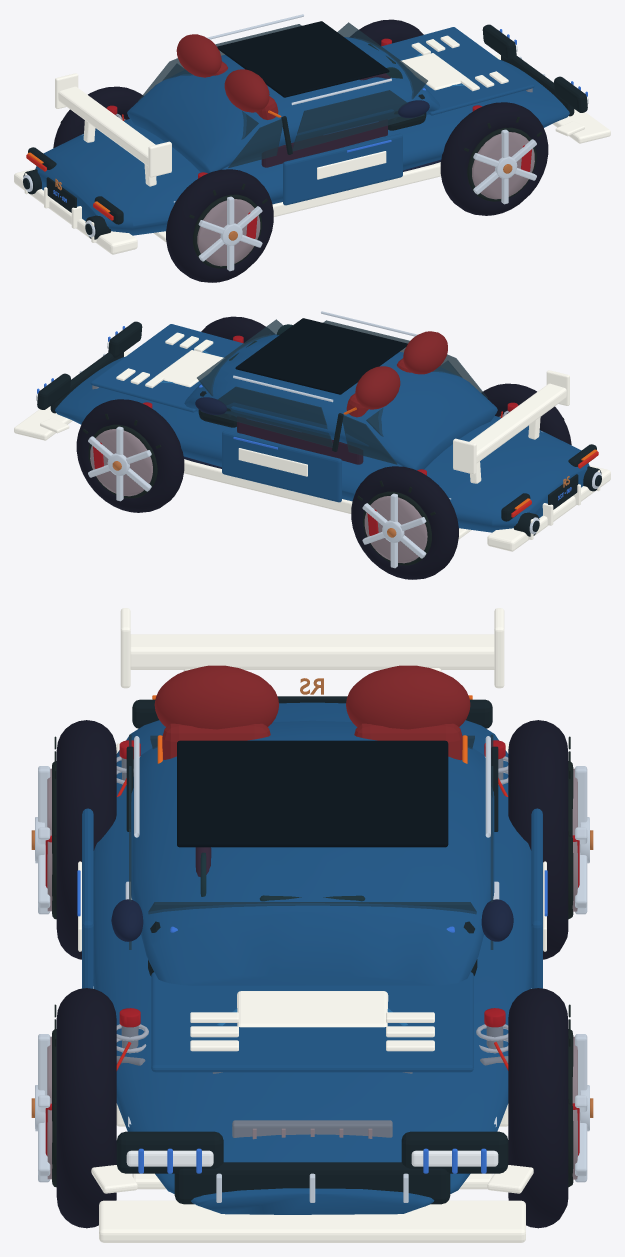
The model's file is Spectral.glb.
3 views of the same model, one above another, from view 1: azimuth 30°, elevation 25°; view 2: azimuth 150°, elevation 25°; view 3: azimuth 270°, elevation 25° (orthographic). The views are drawn at different scales.
Visible parts, largest first — view 1: CABIN_Roof_Shell, BODY_Shell_Hero, Panoramic_Roof_Glass, Front_Left_Tire, Rear_Left_Tire, Hood_Center_Panel, Door_Skin_L, L_Glass_Main, Active_Wing_Blade, Door_Panel_-0.72, Front_Left_Rim_Base, Rear_Left_Rim_Base (+23 smaller); view 2: CABIN_Roof_Shell, BODY_Shell_Hero, Panoramic_Roof_Glass, Front_Right_Tire, Rear_Right_Tire, Hood_Center_Panel, Door_Skin_R, R_Glass_Main, Active_Wing_Blade, Door_Panel_0.72, Front_Right_Rim_Base, Rear_Right_Rim_Base (+23 smaller); view 3: CABIN_Roof_Shell, BODY_Shell_Hero, Panoramic_Roof_Glass, Hood_Center_Panel, Front_Splitter, Front_Left_Tire, Front_Right_Tire, Active_Wing_Blade, Rear_Right_Tire, Rear_Left_Tire, Front_Grille_Deep, Driver_Headrest (+21 smaller).
Boxes of the visible parts, x1,y1,x2,y2 form: CABIN_Roof_Shell: [127, 37, 441, 173]; BODY_Shell_Hero: [35, 59, 569, 235]; Panoramic_Roof_Glass: [217, 21, 389, 97]; Front_Left_Tire: [440, 102, 548, 215]; Rear_Left_Tire: [166, 169, 273, 282]; Hood_Center_Panel: [381, 27, 534, 115]; Door_Skin_L: [283, 133, 402, 205]; L_Glass_Main: [292, 90, 424, 151]; Active_Wing_Blade: [58, 86, 155, 166]; Door_Panel_-0.72: [261, 120, 387, 167]; Front_Left_Rim_Base: [472, 132, 534, 199]; Rear_Left_Rim_Base: [197, 199, 260, 266]; CABIN_Roof_Shell: [183, 334, 497, 470]; BODY_Shell_Hero: [55, 356, 589, 532]; Panoramic_Roof_Glass: [235, 318, 407, 394]; Front_Right_Tire: [76, 399, 184, 512]; Rear_Right_Tire: [351, 466, 458, 579]; Hood_Center_Panel: [90, 324, 243, 412]; Door_Skin_R: [222, 430, 341, 502]; R_Glass_Main: [201, 386, 332, 447]; Active_Wing_Blade: [469, 383, 566, 463]; Door_Panel_0.72: [237, 417, 363, 464]; Front_Right_Rim_Base: [90, 429, 152, 496]; Rear_Right_Rim_Base: [364, 496, 427, 563]; CABIN_Roof_Shell: [131, 720, 494, 985]; BODY_Shell_Hero: [93, 702, 531, 1214]; Panoramic_Roof_Glass: [177, 740, 448, 847]; Hood_Center_Panel: [151, 972, 473, 1072]; Front_Splitter: [99, 1200, 525, 1242]; Front_Left_Tire: [56, 988, 116, 1228]; Front_Right_Tire: [508, 988, 568, 1228]; Active_Wing_Blade: [130, 634, 494, 669]; Rear_Right_Tire: [508, 720, 568, 959]; Rear_Left_Tire: [56, 720, 116, 959]; Front_Grille_Deep: [174, 1162, 450, 1204]; Driver_Headrest: [154, 665, 278, 729].
Size of the model in its own units: 5.21 by 1.68 by 2.53.
9 materials, 9 textured.
